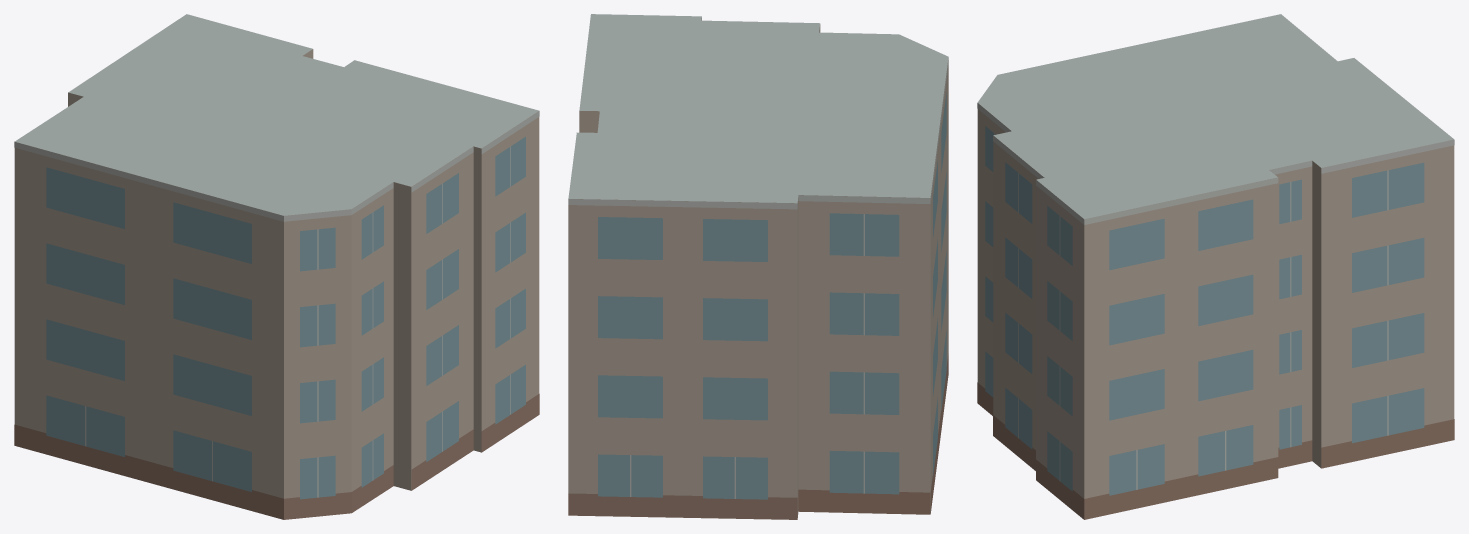
File: survey-upis-32838393.glb
3 renders of one model, left to right at view 1: azimuth 30°, elevation 25°; view 2: azimuth 150°, elevation 25°; view 3: azimuth 270°, elevation 25°, orthographic. The views are drawn at different scales.
Parts seen in each view (by area): view 1: survey-upis-32838393.tmp; view 2: survey-upis-32838393.tmp; view 3: survey-upis-32838393.tmp.
Boxes of the visible parts, bbox=[...] form: survey-upis-32838393.tmp: bbox=[14, 14, 539, 519]; survey-upis-32838393.tmp: bbox=[568, 14, 948, 519]; survey-upis-32838393.tmp: bbox=[977, 14, 1454, 519].
Bounding box in the file's own units: 18.45 × 12.59 × 18.12.
